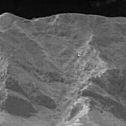Target: (72, 46, 85, 56)
